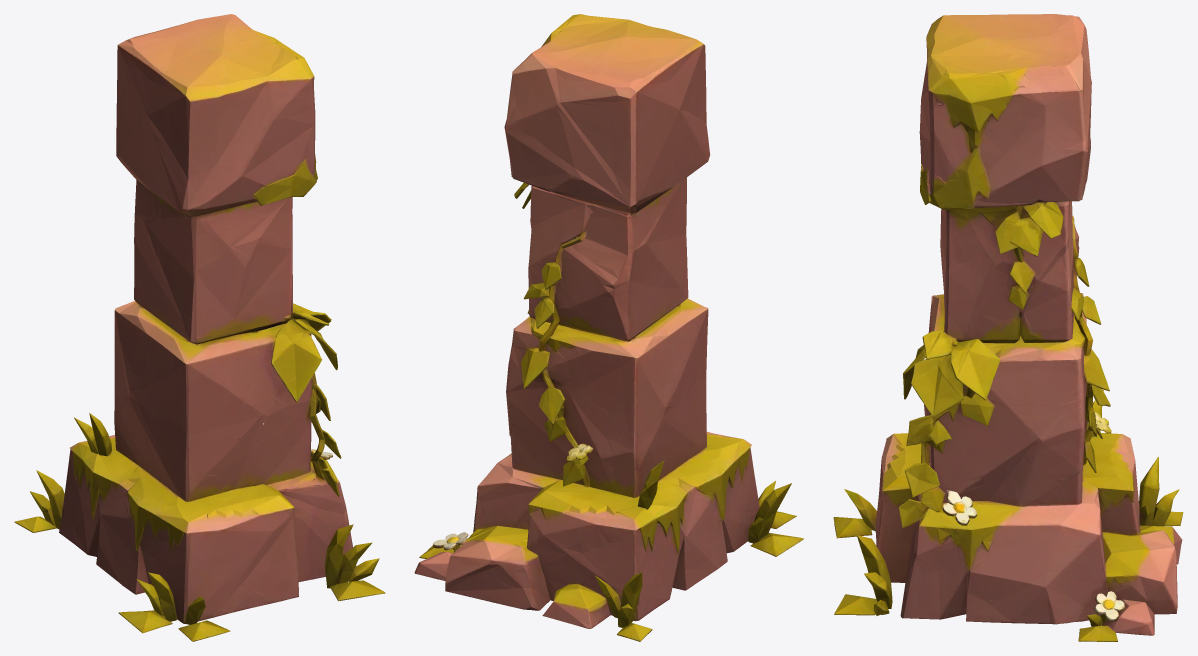
The model's file is KeepSakeRockPiller.glb.
3 views of the same model, side by side, from view 1: azimuth 30°, elevation 25°; view 2: azimuth 150°, elevation 25°; view 3: azimuth 270°, elevation 25° (orthographic). The views are drawn at different scales.
Parts seen in each view (by area): view 1: tripo_node_b101f3f5-cdb1-4da6-ad62-0bc61be1a2a1; view 2: tripo_node_b101f3f5-cdb1-4da6-ad62-0bc61be1a2a1; view 3: tripo_node_b101f3f5-cdb1-4da6-ad62-0bc61be1a2a1.
Part boxes in pixels (x1,y1,x2,y2): tripo_node_b101f3f5-cdb1-4da6-ad62-0bc61be1a2a1: (14,14,385,641); tripo_node_b101f3f5-cdb1-4da6-ad62-0bc61be1a2a1: (414,14,803,641); tripo_node_b101f3f5-cdb1-4da6-ad62-0bc61be1a2a1: (833,14,1183,641).
Bounding box in the file's own units: 0.5458 × 0.9816 × 0.5826.
1 material, 1 textured.
